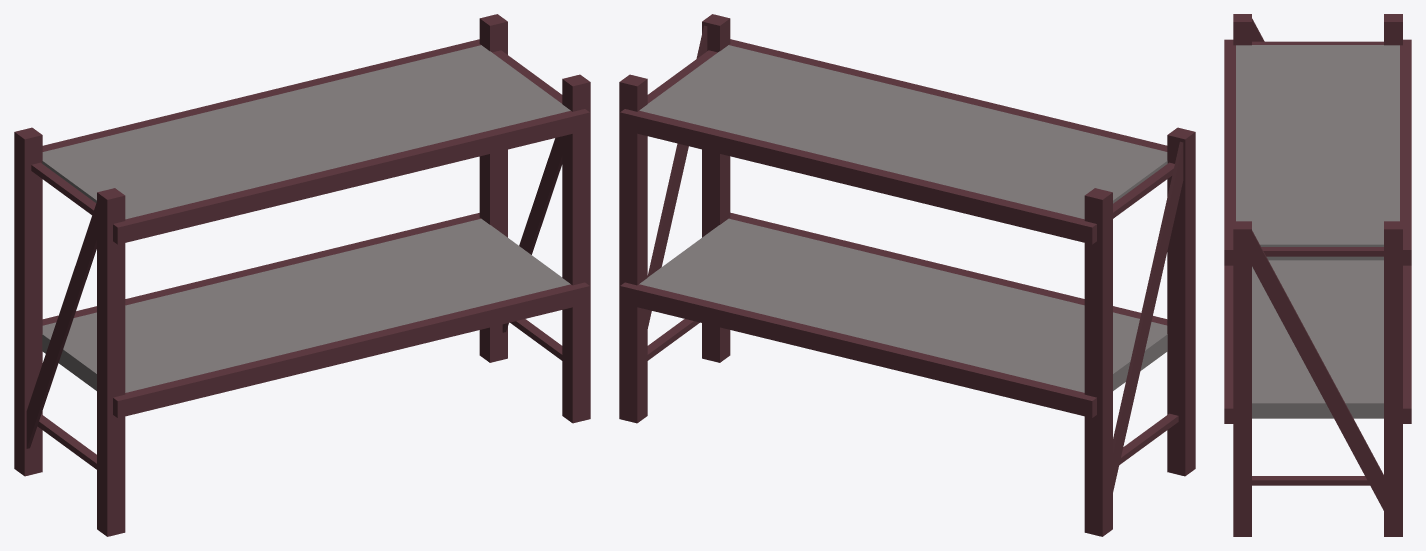
The model's file is props-storage-small-a.glb.
3 renders of one model, left to right at view 1: azimuth 30°, elevation 25°; view 2: azimuth 150°, elevation 25°; view 3: azimuth 270°, elevation 25°, orthographic. The views are drawn at different scales.
Parts seen in each view (by area): view 1: storage-small-a; view 2: storage-small-a; view 3: storage-small-a.
Part boxes in pixels (left/top/right/bottom): storage-small-a: left=14, top=14, right=590, bottom=536; storage-small-a: left=619, top=14, right=1195, bottom=536; storage-small-a: left=1224, top=14, right=1411, bottom=536.
Size of the model in its own units: 1.5 by 1 by 0.552.
